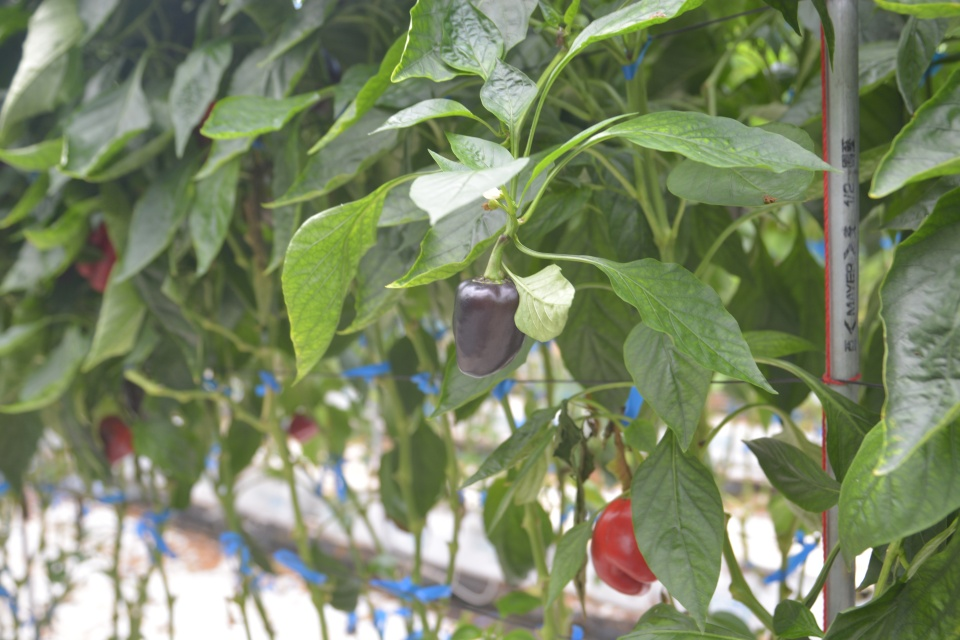fruit: (449, 270, 528, 378), (589, 495, 658, 598), (71, 220, 118, 293)
pedicle: (473, 272, 510, 283)
